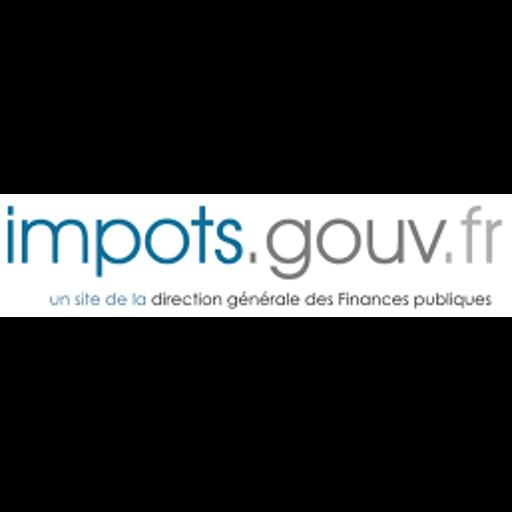DGI -French Tax Authority-: (0, 194, 512, 317)
